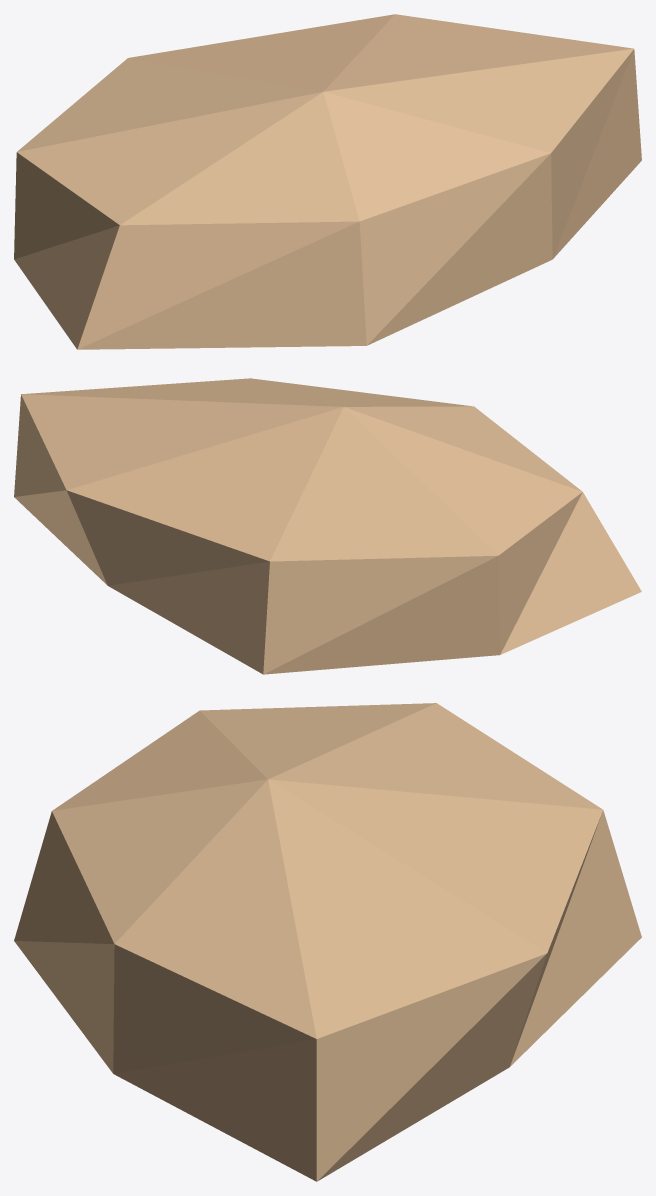
3 views of the same model, one above another, from view 1: azimuth 30°, elevation 25°; view 2: azimuth 150°, elevation 25°; view 3: azimuth 270°, elevation 25° (orthographic). The views are drawn at different scales.
Bounding box in the file's own units: 21.05 × 7 × 15.1.
